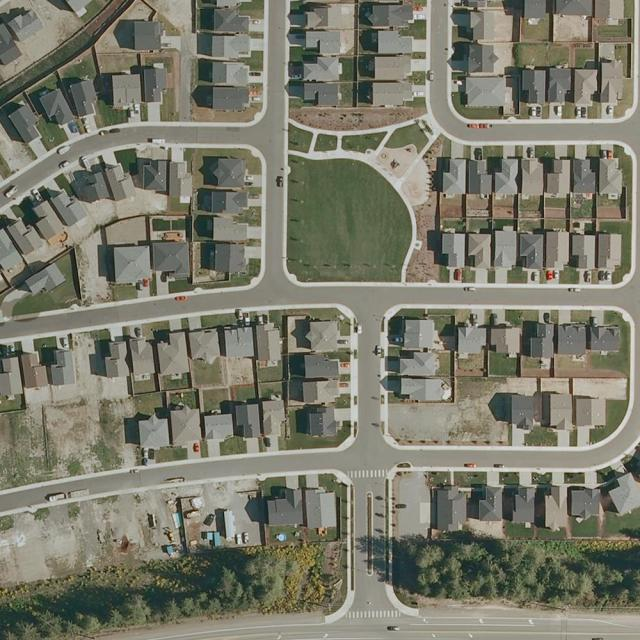building: (467, 483, 536, 523), (380, 375, 452, 403), (487, 392, 537, 430), (112, 245, 152, 284), (266, 487, 304, 526), (302, 487, 337, 529), (151, 241, 189, 278), (435, 486, 466, 531), (136, 412, 171, 450), (170, 405, 202, 446), (540, 392, 573, 430), (493, 157, 519, 196), (233, 402, 261, 438), (545, 160, 571, 197), (404, 319, 435, 350), (399, 351, 437, 376), (599, 158, 622, 199), (518, 233, 544, 269), (570, 233, 596, 269), (545, 231, 569, 269), (440, 232, 465, 268), (494, 230, 517, 268), (521, 159, 544, 196), (442, 159, 466, 194), (572, 159, 596, 194), (202, 414, 234, 440), (468, 234, 491, 269), (598, 234, 621, 269), (469, 160, 491, 194), (591, 398, 606, 427)
greenland: (287, 154, 412, 281), (384, 116, 432, 165), (340, 132, 386, 154), (283, 123, 313, 154), (313, 133, 338, 155)
